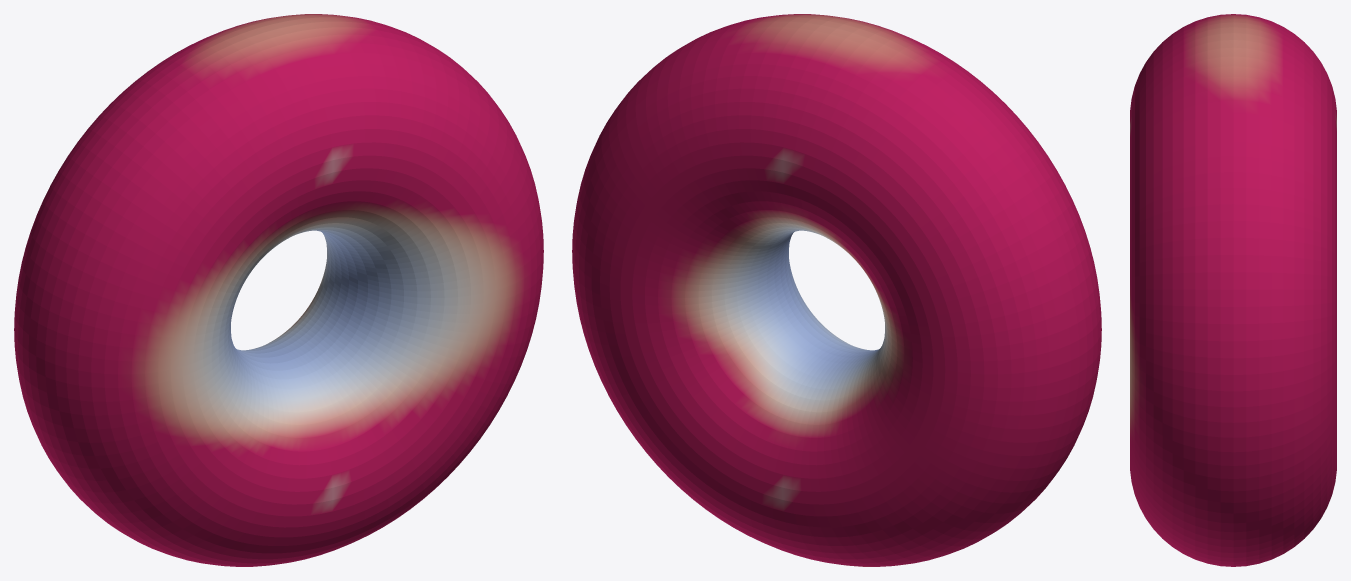
The picture shows the model from 3 angles, left to right: view 1: azimuth 30°, elevation 25°; view 2: azimuth 150°, elevation 25°; view 3: azimuth 270°, elevation 25°; orthographic projection. The views are drawn at different scales.
Visible parts, largest first — view 1: world; view 2: world; view 3: world.
Part boxes in pixels (bbox=[...]): world: bbox=[14, 14, 543, 566]; world: bbox=[572, 14, 1101, 566]; world: bbox=[1130, 14, 1336, 566].
Bounding box in the file's own units: 26.67 × 26.67 × 9.98.
